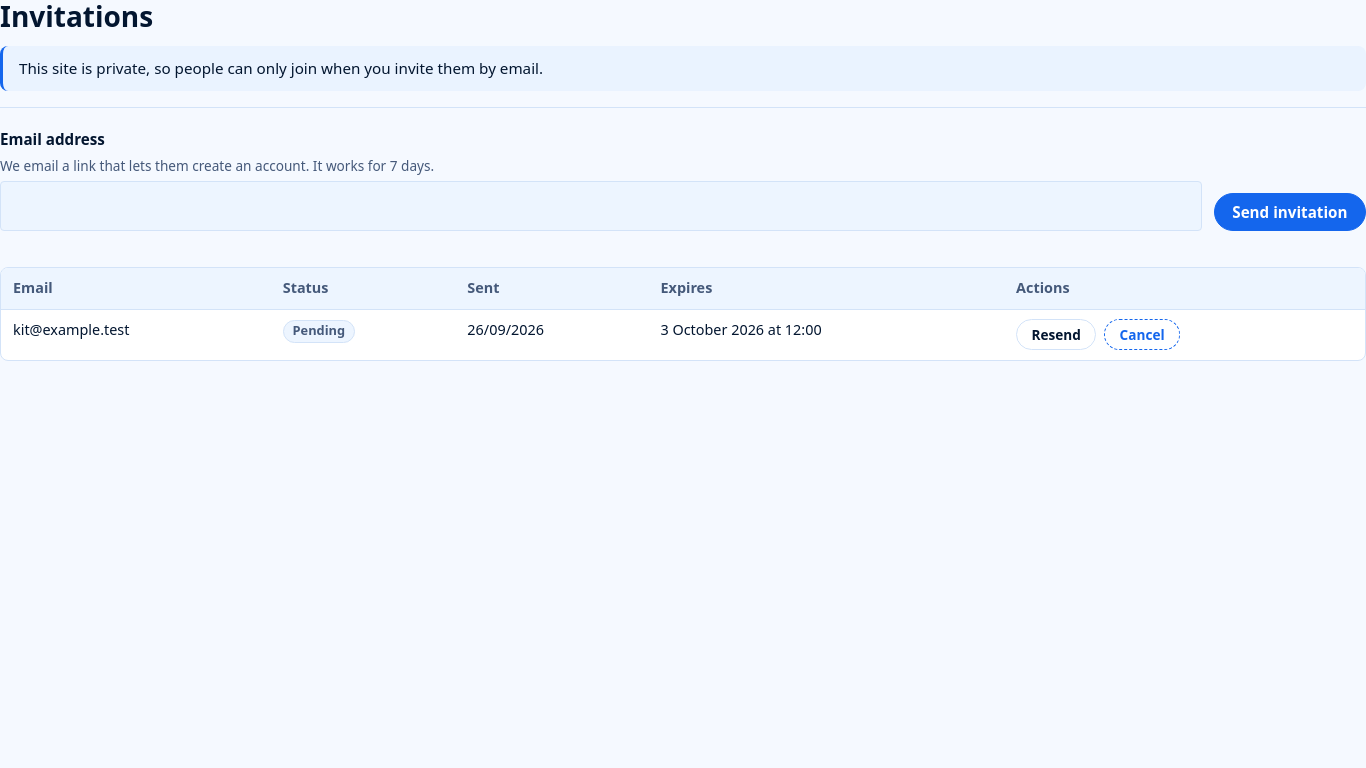
AdminInvitationsPage cancelling an invitation › keeps the check open with the server's reason when it fails
Click the button with aria-label "Cancel invitation to kit@example.test" at coordinates (1142, 335), box [1104,319,1180,350]
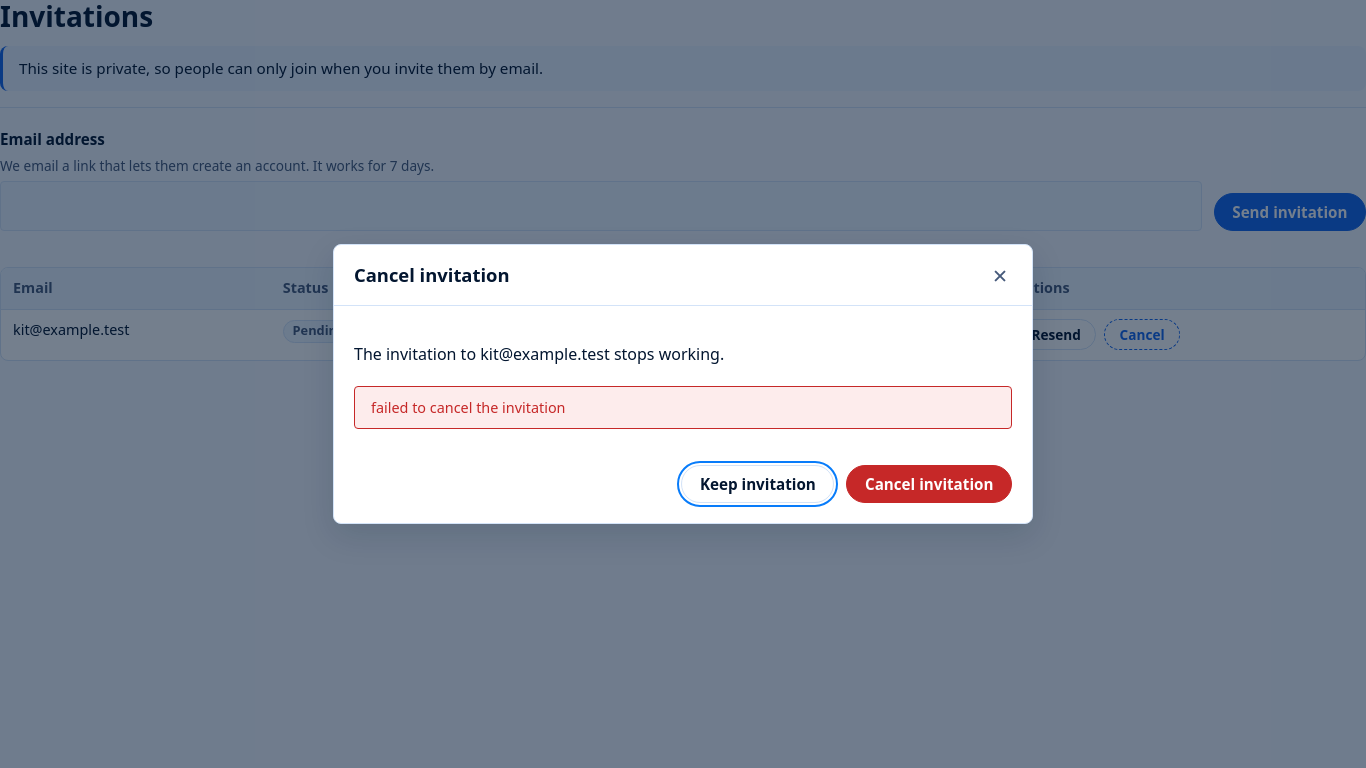
Now the dialog "Cancel invitation" shows "failed to cancel the invitation", box [371,398,566,417]
